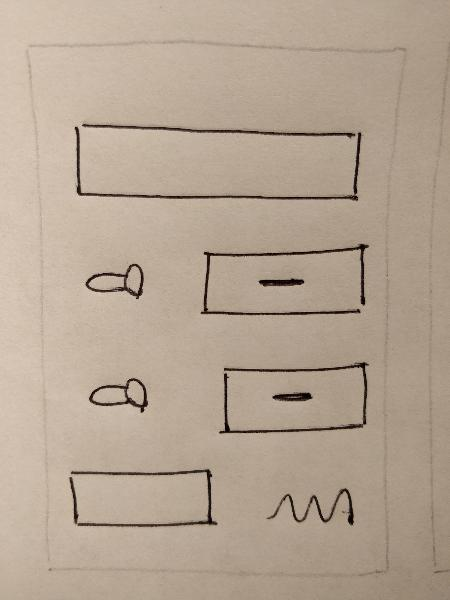button: (190, 241, 373, 324), (210, 359, 373, 441)
switch: (75, 253, 152, 306), (83, 370, 156, 420)
text: (254, 480, 361, 539)
text_input: (63, 112, 367, 210), (61, 464, 223, 532)
